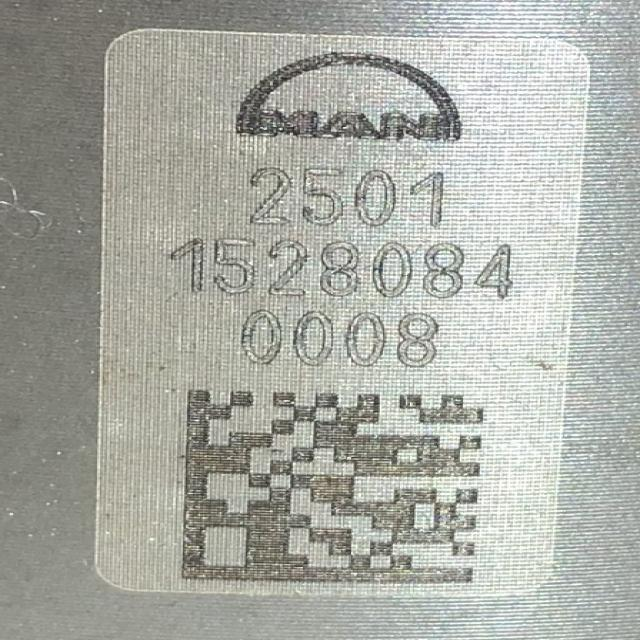dmc: (181, 389, 484, 583)
